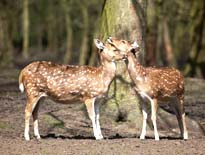Deer: (16, 39, 128, 143), (107, 36, 193, 142)
